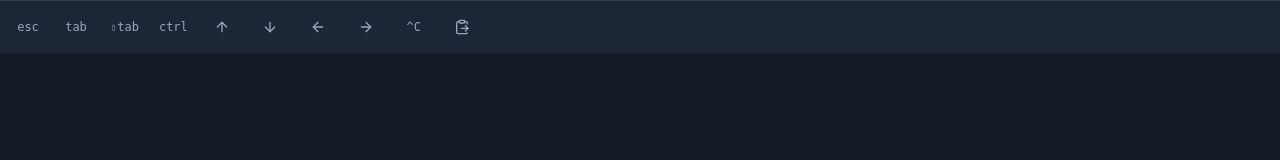
MobileKeyBar › a denied clipboard read shows the quiet "Clipboard unavailable" notice
Click the button named "Paste" at (462, 27), box [440, 5, 484, 49]
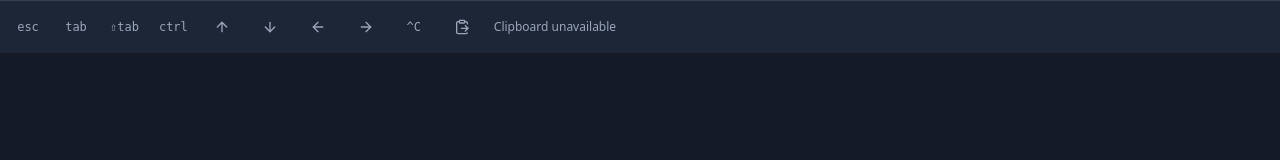
Expected: the message reads "Clipboard unavailable", [494, 18, 616, 35]
